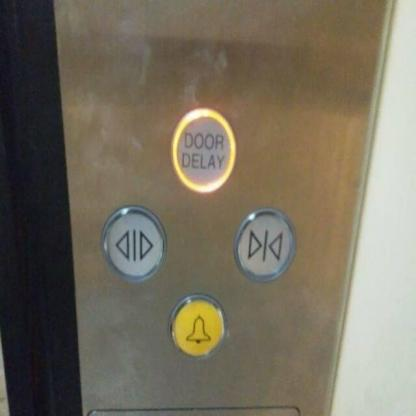alarm: (167, 291, 228, 358)
close: (233, 208, 294, 284)
open: (100, 203, 168, 281)
text_delay: (169, 106, 237, 194)
